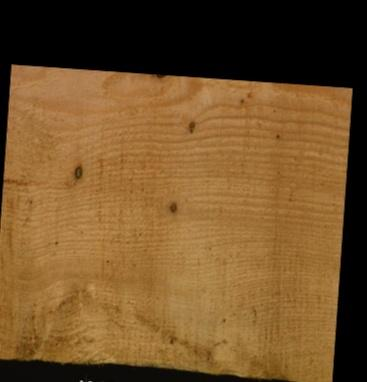dry_knot: (167, 200, 177, 214)
small_knot: (184, 120, 195, 133)
